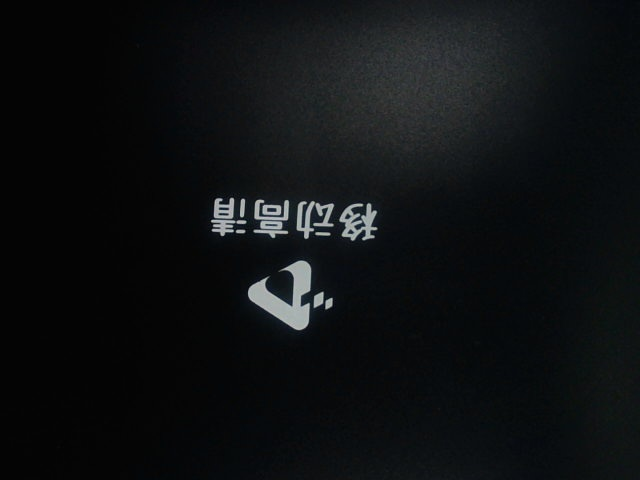AO_MobileHD: (195, 180, 394, 344)
